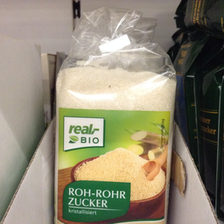tomato_sauce: (53, 61, 179, 223)
